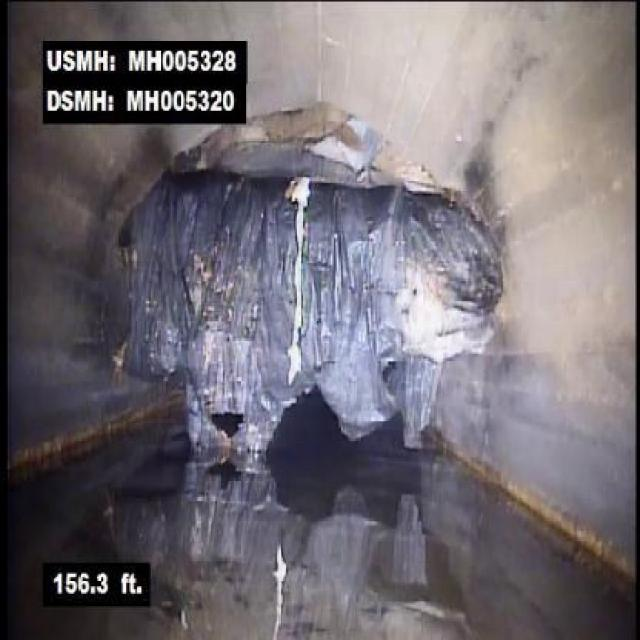Utility intrusion: (122, 162, 509, 318)
